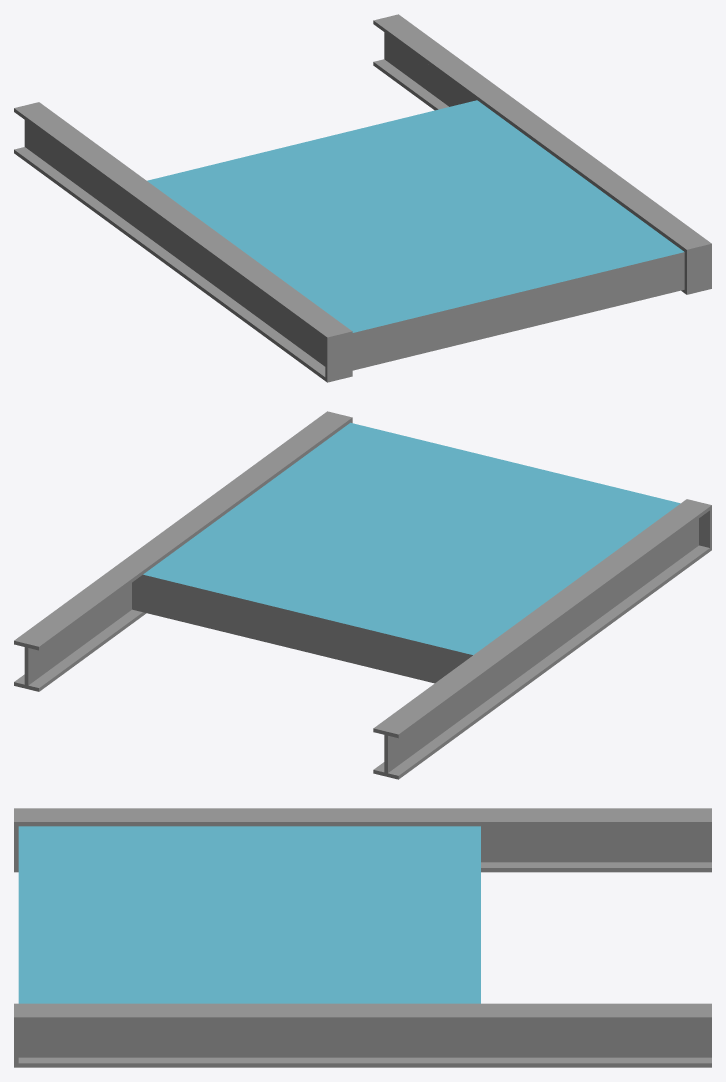
The model's file is Wall_v3_v3.obj.
3 renders of one model, top to bottom at view 1: azimuth 30°, elevation 25°; view 2: azimuth 150°, elevation 25°; view 3: azimuth 270°, elevation 25°, orthographic. The views are drawn at different scales.
Visible parts, largest first — view 1: Körper1; view 2: Körper1; view 3: Körper1.
Boxes of the visible parts, <box> form: Körper1: <box>14,14,711,382</box>; Körper1: <box>14,411,711,779</box>; Körper1: <box>14,808,711,1067</box>.
Bounding box in the file's own units: 107 × 12 × 151.
